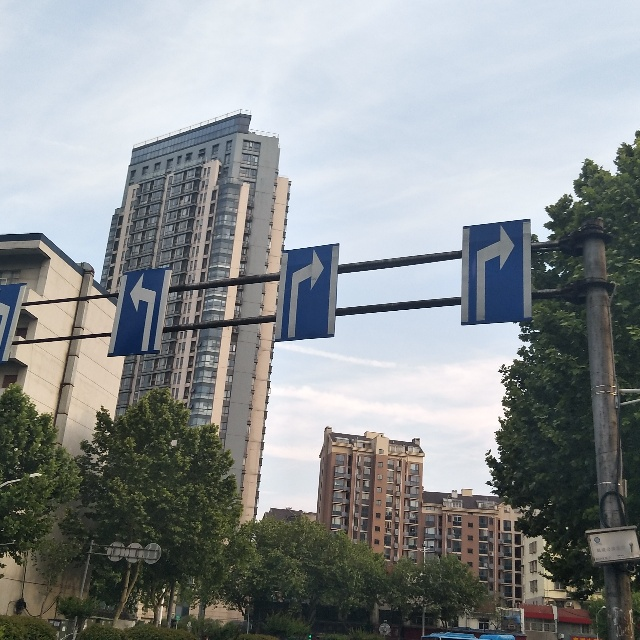left: (124, 276, 165, 350)
right: (472, 225, 524, 319), (286, 251, 334, 340)
